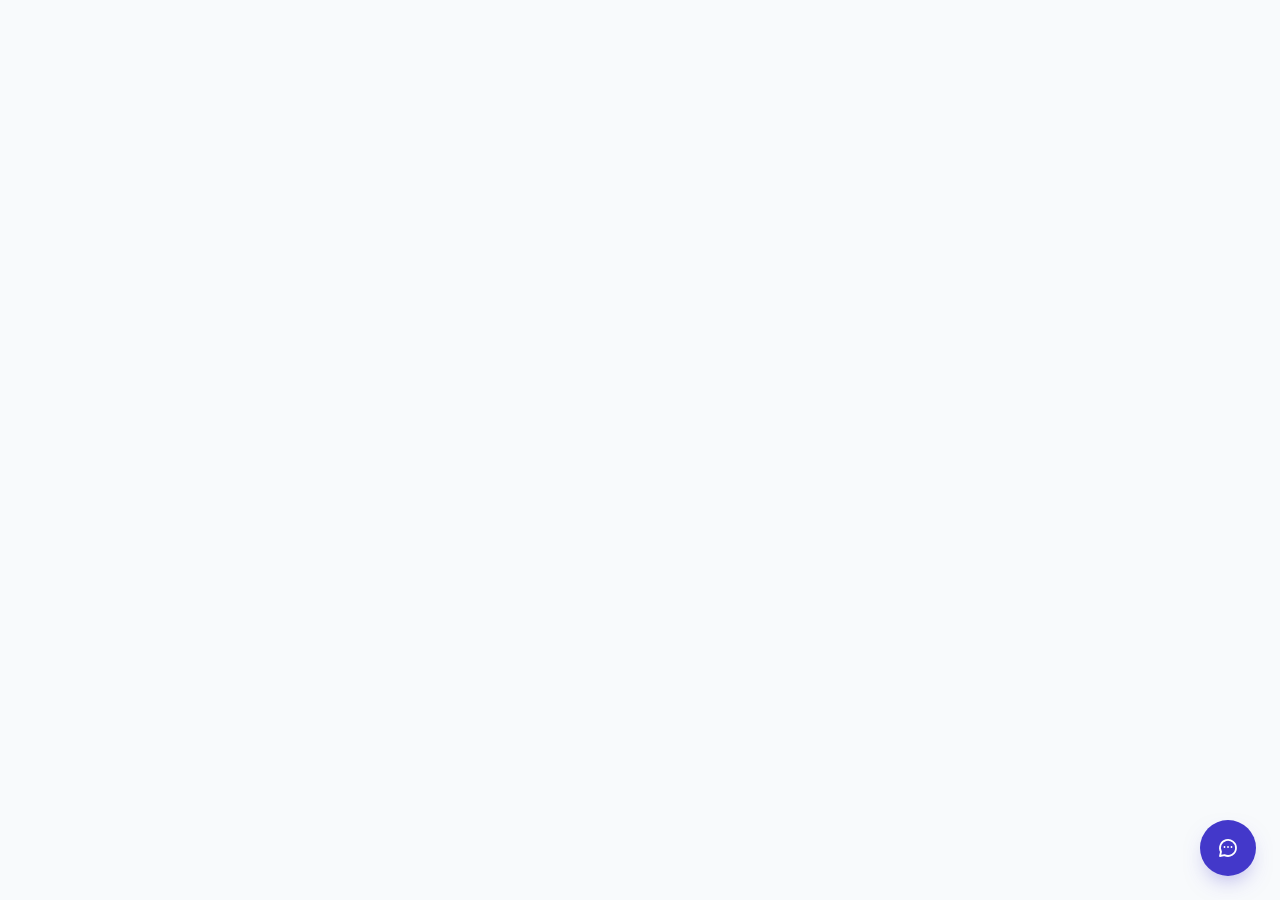
HTTP 503 busy shows a clear message
Click the button named "Ask PortfolioAI about Irfan's work": x=1228, y=848 [1200,820,1256,876]
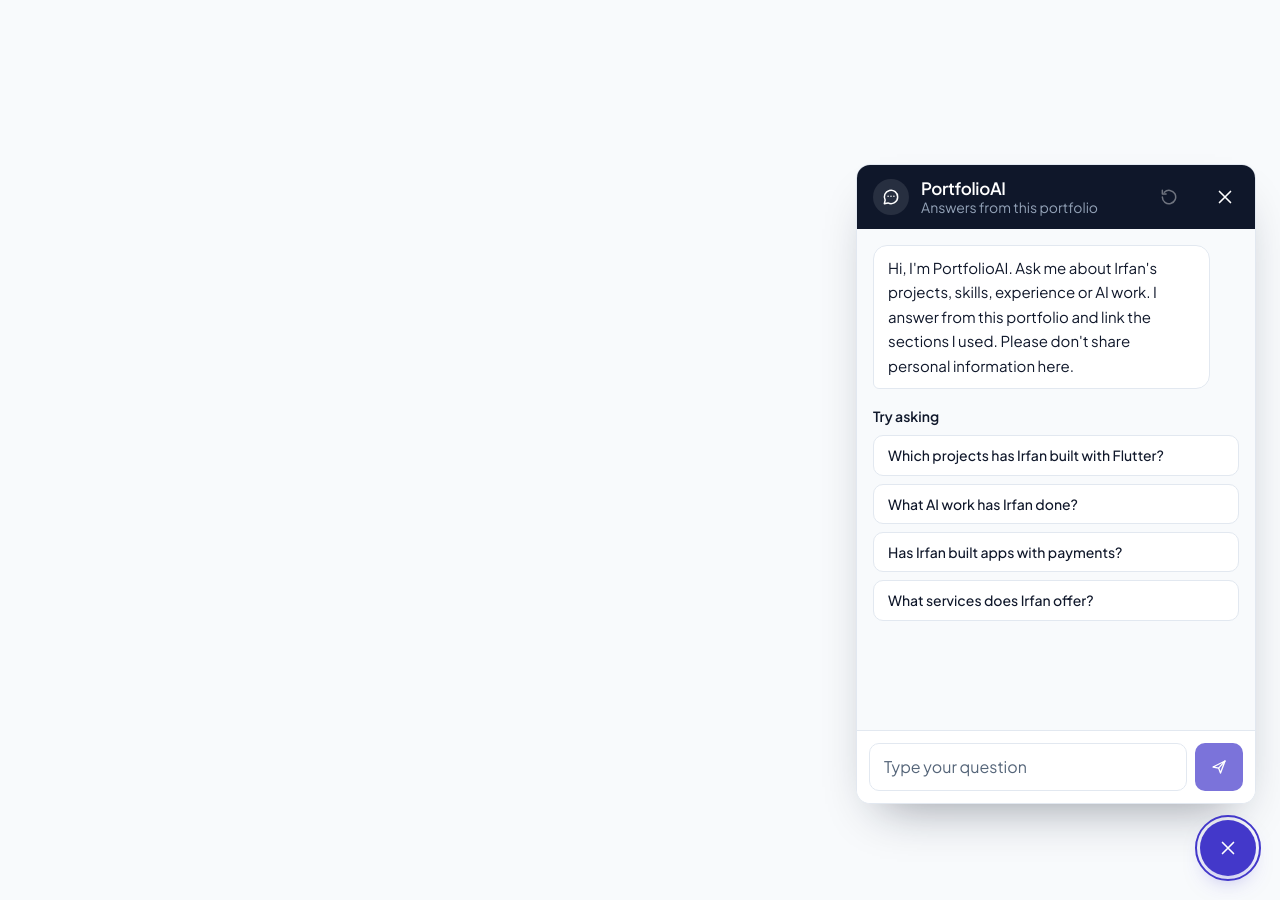
In the text box labelled "your question": x=1028, y=767 [869,743,1187,791], type "Question"
Then press Enter
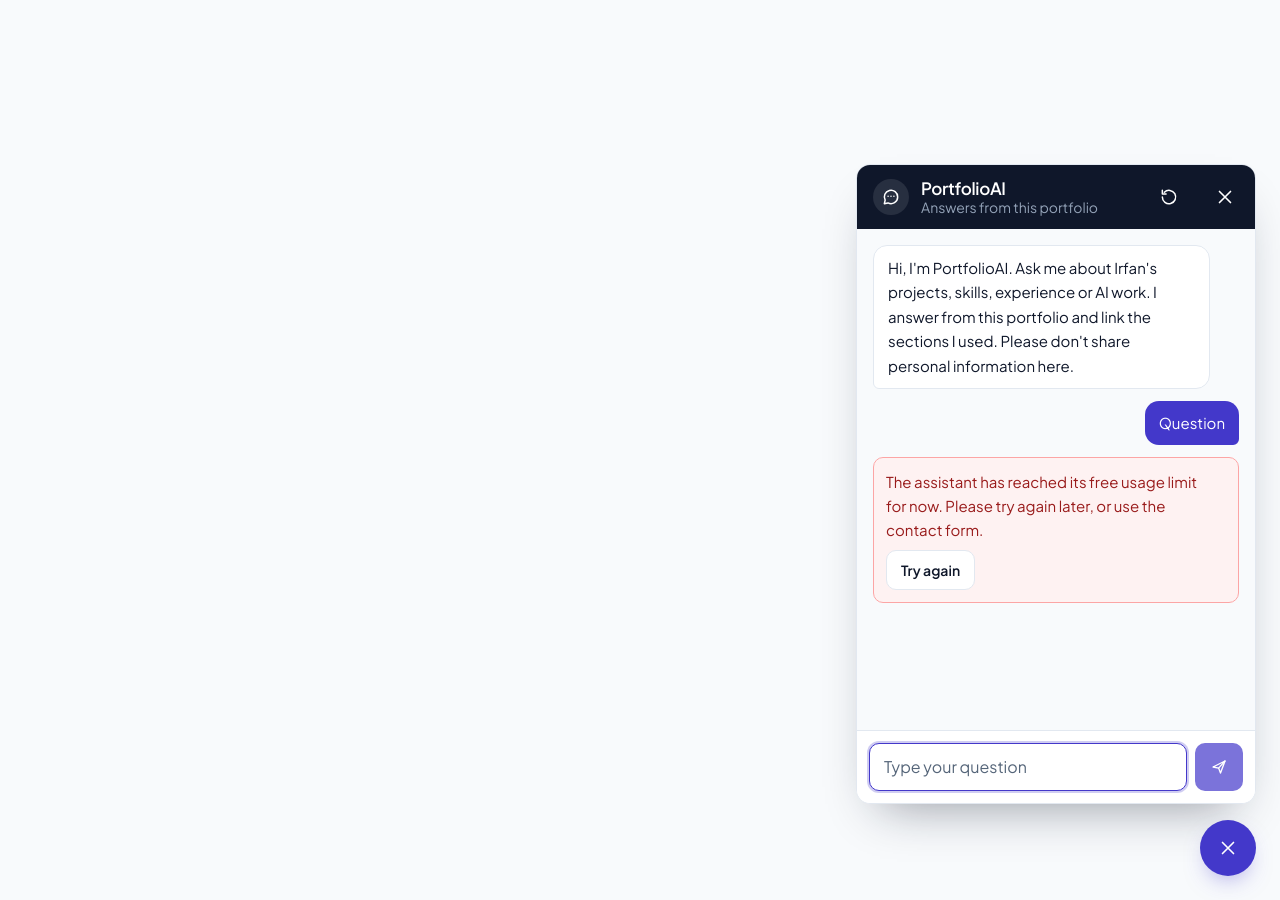
Check: the text "The assistant has reached its free usage limit for now. Please try again later, or use the contact form." is shown, box [886,472,1197,539]
